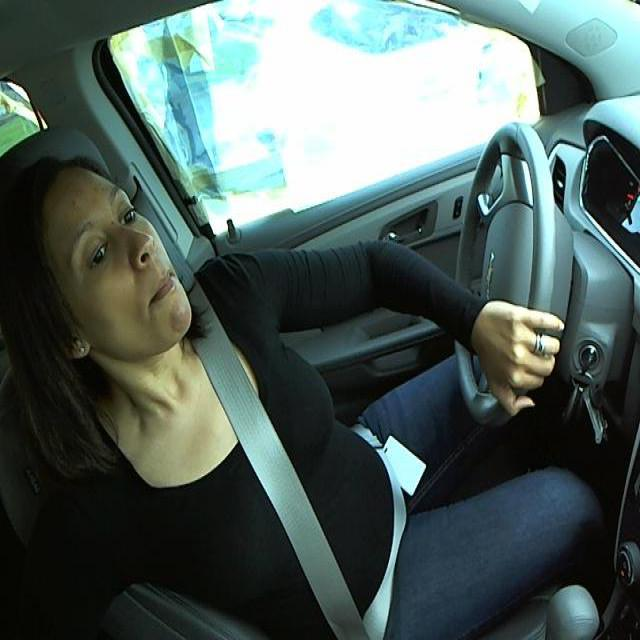seatbelt: (197, 358, 384, 634)
